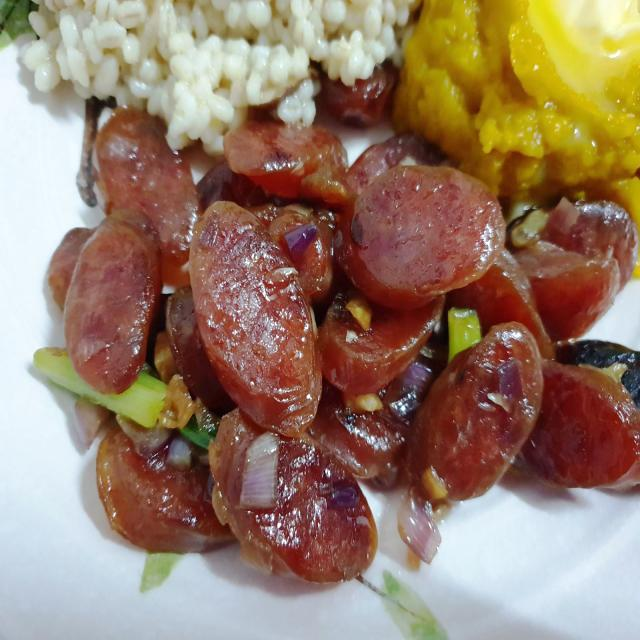chinese_sausage: (39, 101, 640, 589)
rice: (21, 0, 411, 144)
